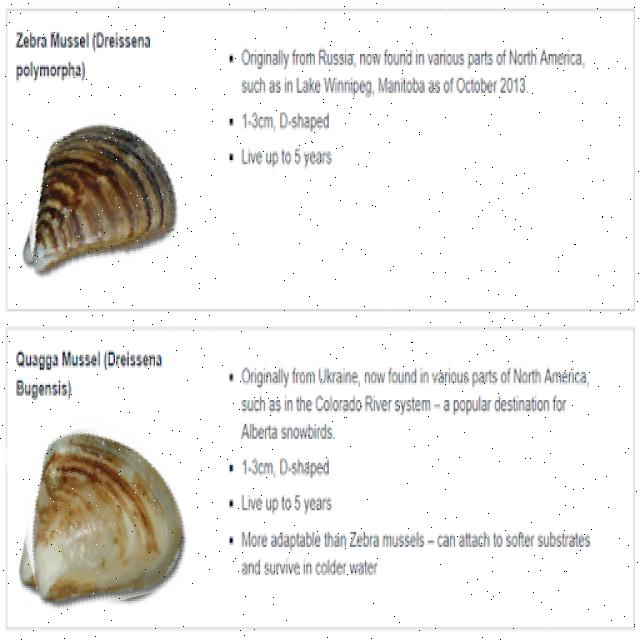Dreissena_bugensis: (10, 418, 188, 611)
Dreissena_polymorpha: (20, 121, 179, 274)
